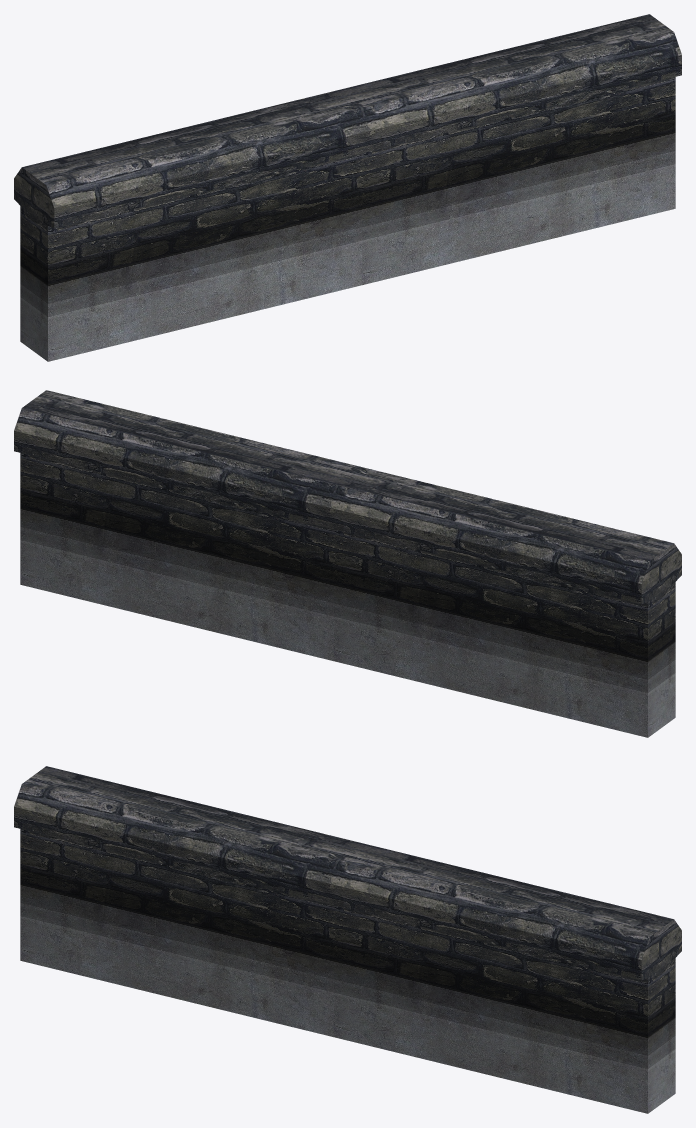
The model's file is stone_wall.dae.
3 views of the same model, one above another, from view 1: azimuth 30°, elevation 25°; view 2: azimuth 150°, elevation 25°; view 3: azimuth 330°, elevation 25° (orthographic).
Visible parts, largest first — view 1: instance_1; view 2: instance_1; view 3: instance_1.
Boxes of the visible parts, left/top/right/bottom form: instance_1: left=14, top=14, right=681, bottom=361; instance_1: left=14, top=390, right=681, bottom=737; instance_1: left=14, top=766, right=681, bottom=1113.
Bounding box in the file's own units: 300 × 33.26 × 80.12.
Materials: 1 (1 with a texture image).
